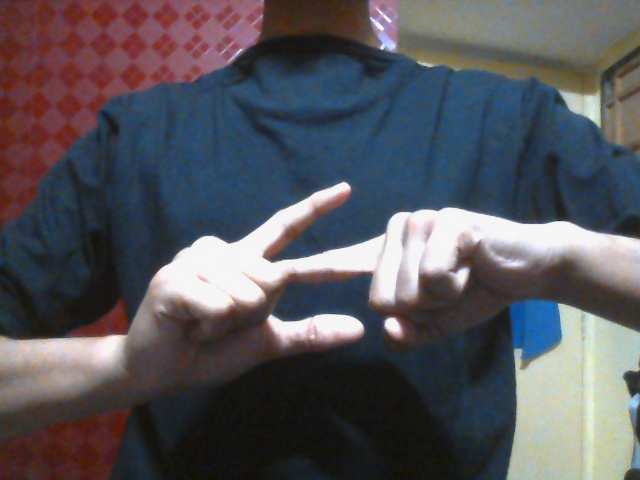E: (139, 180, 504, 400)
